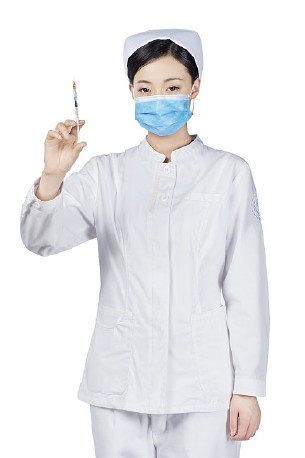Mask: (132, 74, 193, 135)
